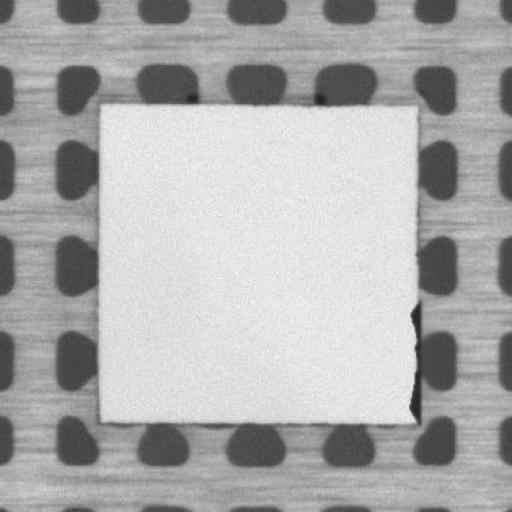DIE_BROKEN: (406, 297, 423, 424)
